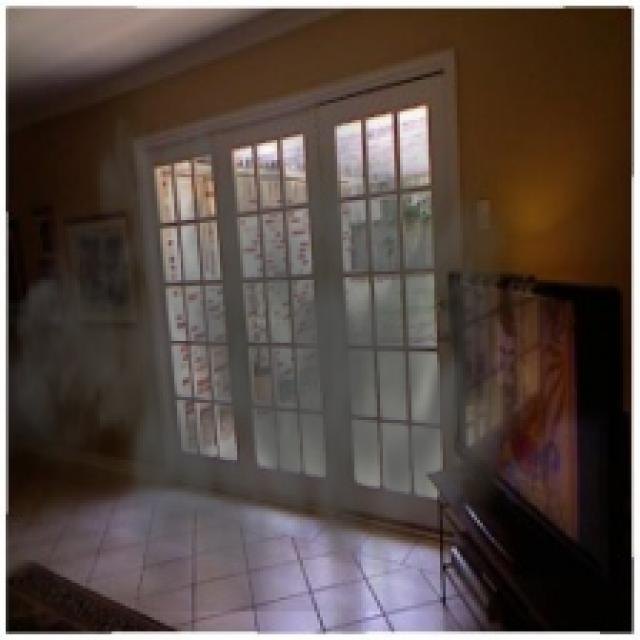Smoke: (8, 63, 554, 612)
